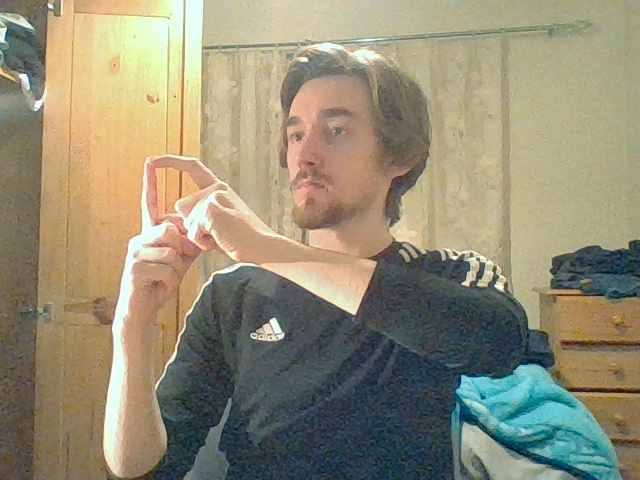daughter: (128, 155, 251, 282)
